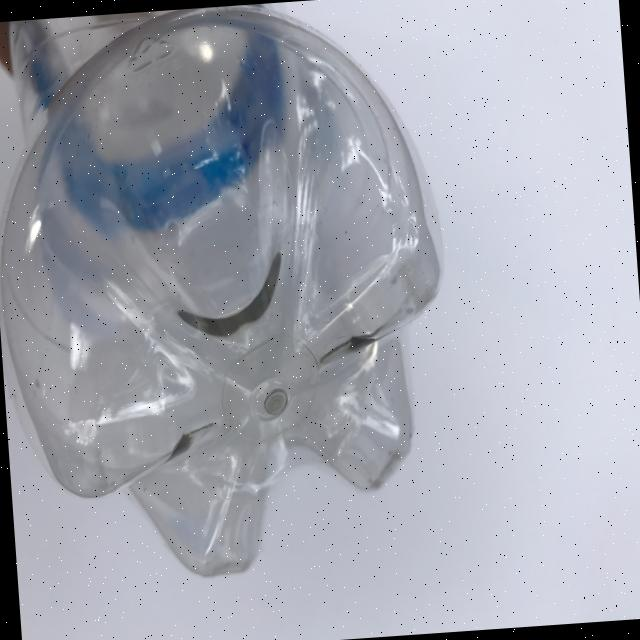plastic: (0, 0, 465, 589)
